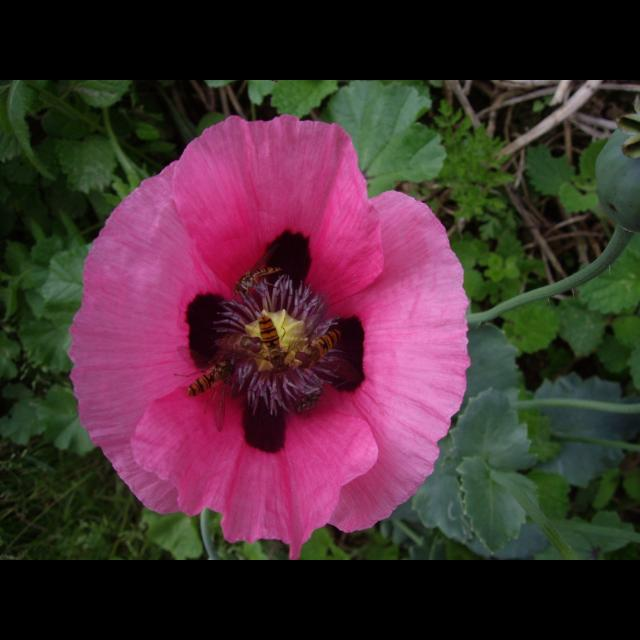Flower: (64, 112, 468, 560)
